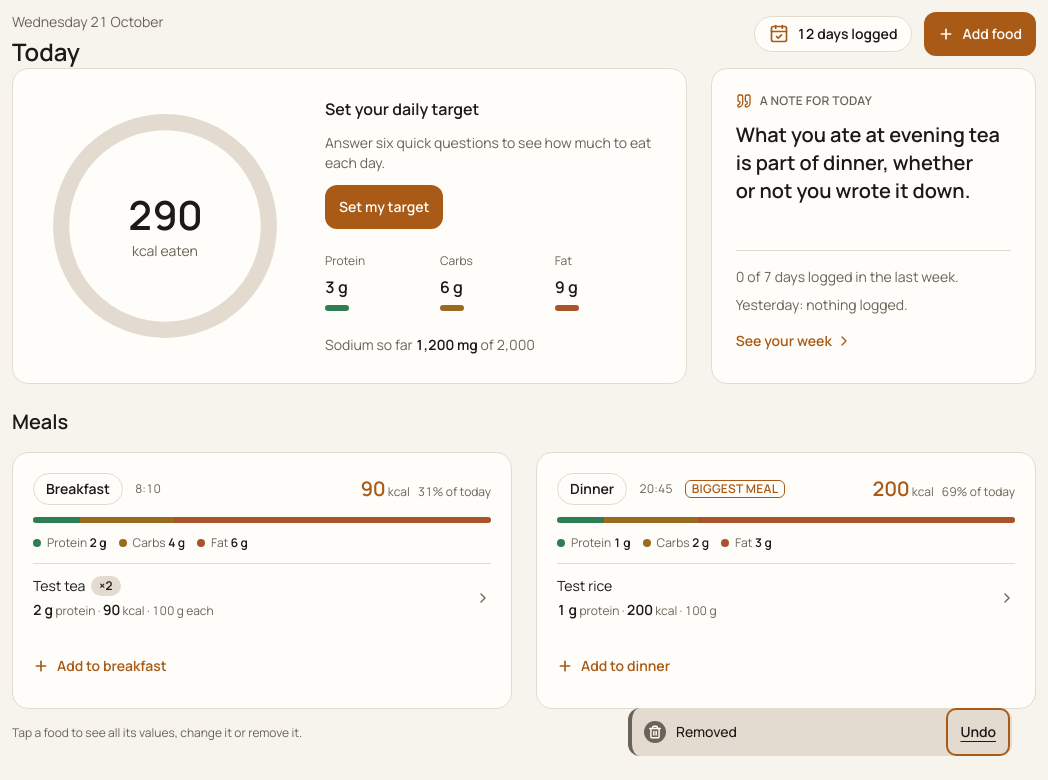
Test: changing and removing foods › says a food was removed on its page, and puts it back exactly as it was with Undo
This screenshot has width=1048, height=780.
Expected: the text "Removed" is shown, [676, 722, 938, 742]
Click the button "Undo". click: click(978, 732)
box: [948, 710, 1008, 754]
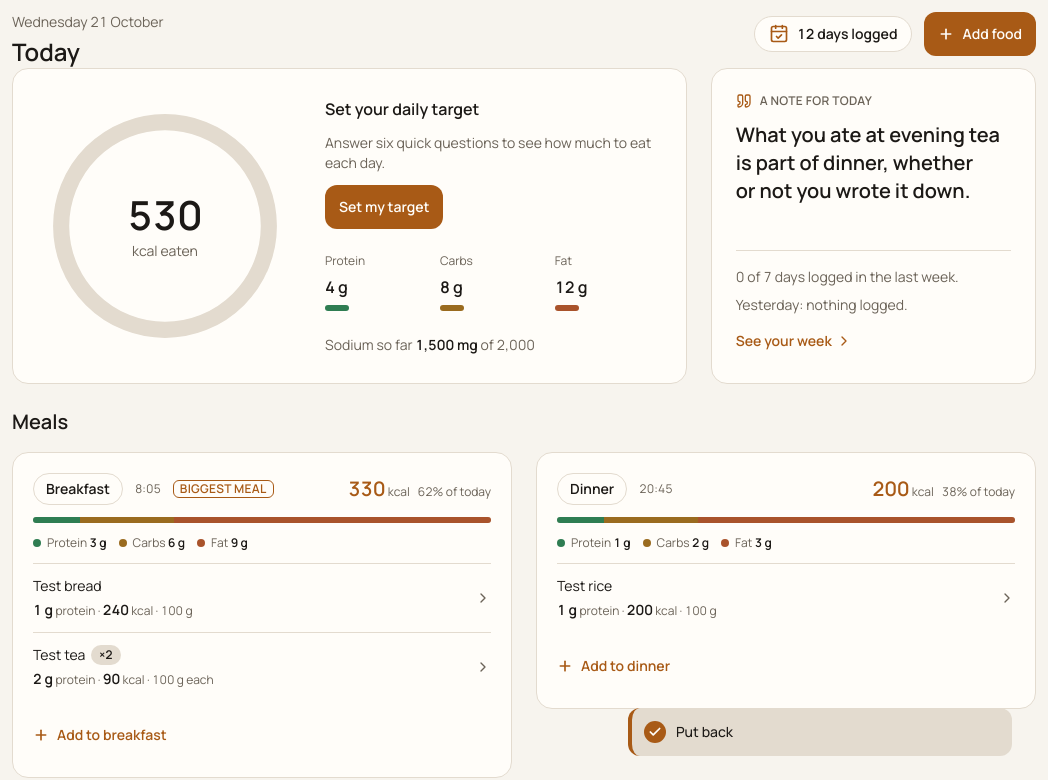
Expected: the text "Test bread" is shown, [33, 576, 102, 596]
Expected: the text "530" is shown, [128, 191, 202, 239]
Expected: the text "Put back" is shown, [676, 721, 888, 741]
